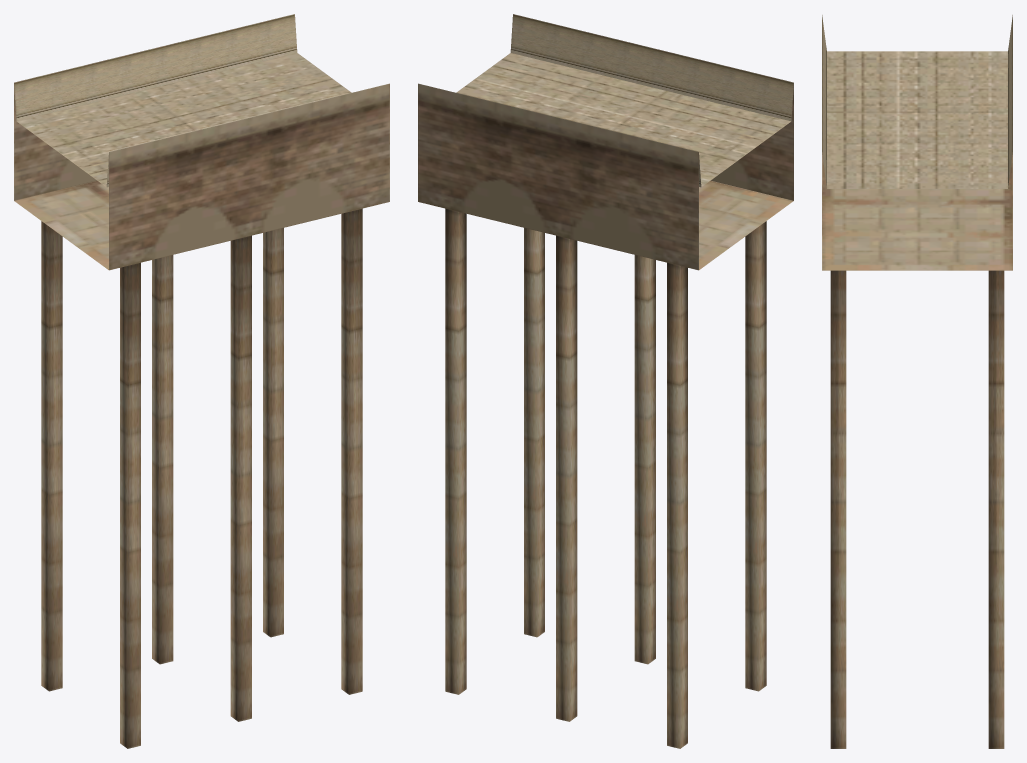
The model's file is thm_nboo_imprv_elevated_walkway_s01_l4.fbx.
3 views of the same model, side by side, from view 1: azimuth 30°, elevation 25°; view 2: azimuth 150°, elevation 25°; view 3: azimuth 270°, elevation 25° (orthographic).
Parts seen in each view (by area): view 1: mesh_node; view 2: mesh_node; view 3: mesh_node.
Boxes of the visible parts, <box> form: mesh_node: <box>14,14,389,748</box>; mesh_node: <box>418,14,793,748</box>; mesh_node: <box>822,15,1012,748</box>.
Size of the model in its own units: 8.88 by 18.3 by 5.2.
